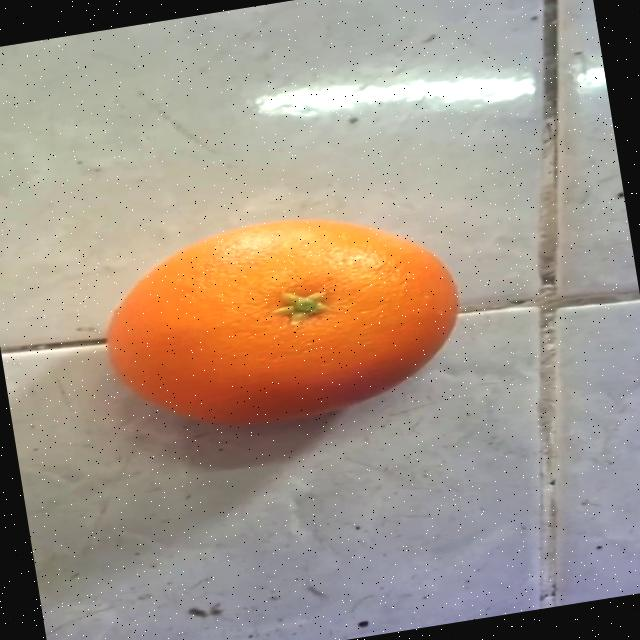orange: (31, 168, 550, 486)
